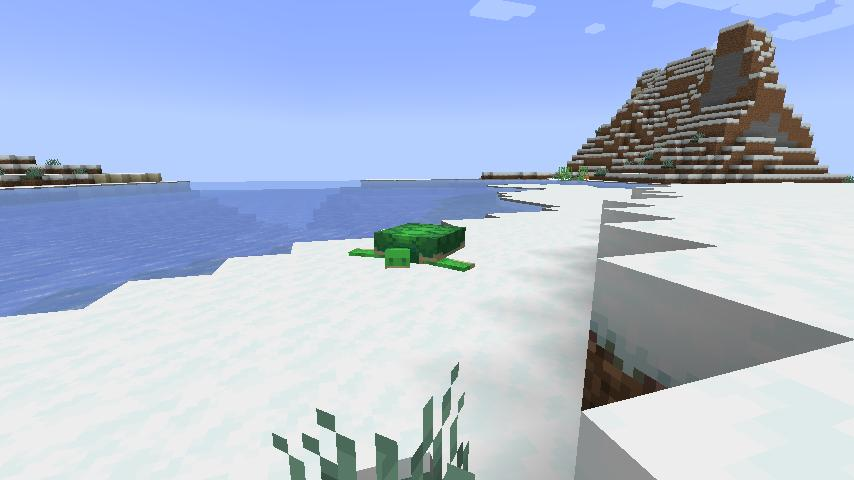turtle: (347, 221, 478, 275)
